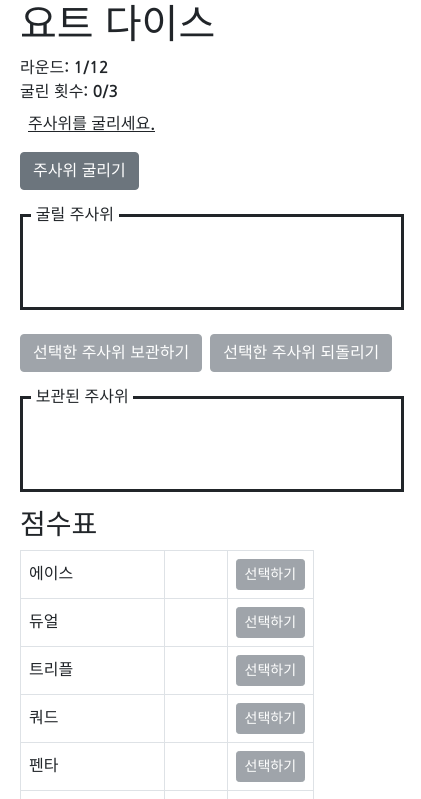
Test: 주사위 굴리기 › 제한 횟수 초과 주사위 굴리기
The image size is (421, 799).
Click the button "주사위 굴리기": (80, 171) [20, 152, 139, 190]
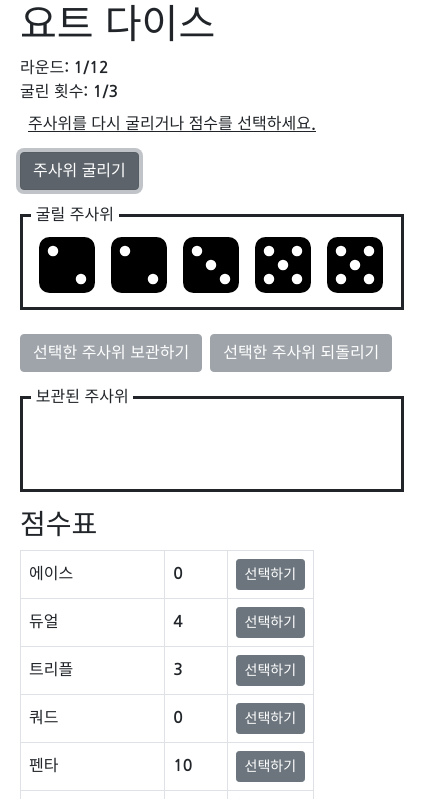
Click the button "주사위 굴리기": (80, 171) [20, 152, 139, 190]
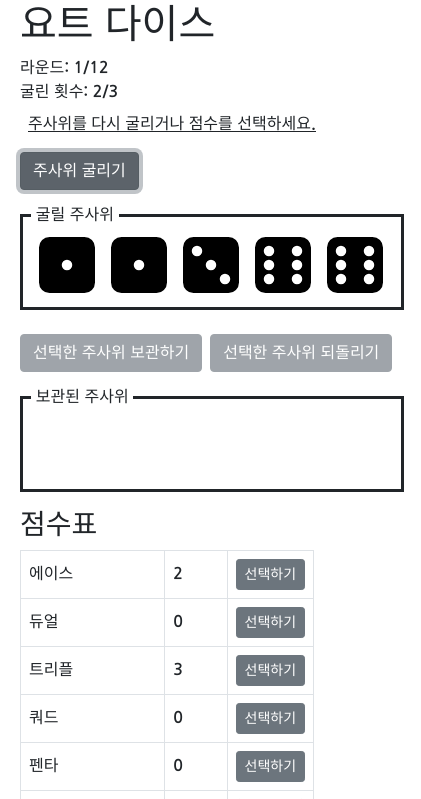
Click the button "주사위 굴리기": (80, 171) [20, 152, 139, 190]
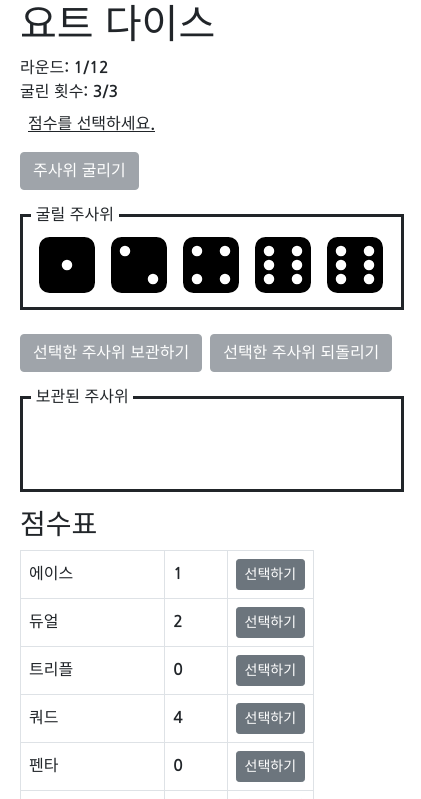
Check: the text with test id "roll-count" reads "3", box [93, 84, 103, 99]
Check: the text with test id "instruction" reads "점수를 선택하세요.", box [28, 116, 155, 131]
